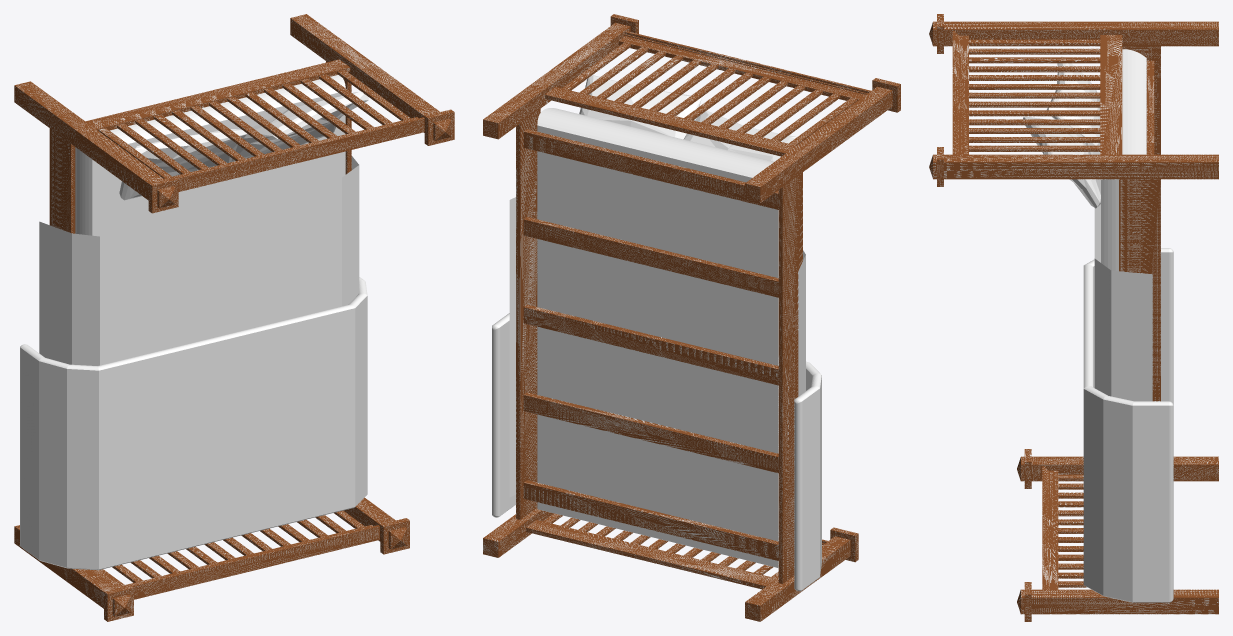
3 views of the same model, side by side, from view 1: azimuth 30°, elevation 25°; view 2: azimuth 150°, elevation 25°; view 3: azimuth 270°, elevation 25° (orthographic). The views are drawn at different scales.
Parts seen in each view (by area): view 1: bed; view 2: bed; view 3: bed.
Boxes of the visible parts, x1,y1,x2,y2 form: bed: (14,14,454,621); bed: (483,14,900,621); bed: (929,14,1218,621).
Size of the model in its own units: 70.47 by 96.57 by 54.86.
